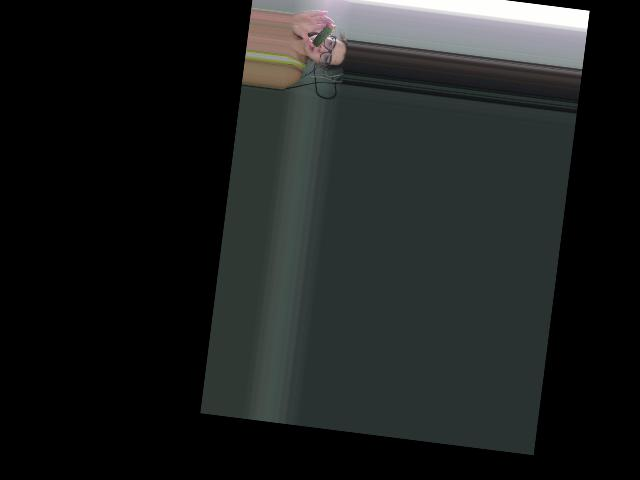cucumber: (312, 24, 333, 48)
